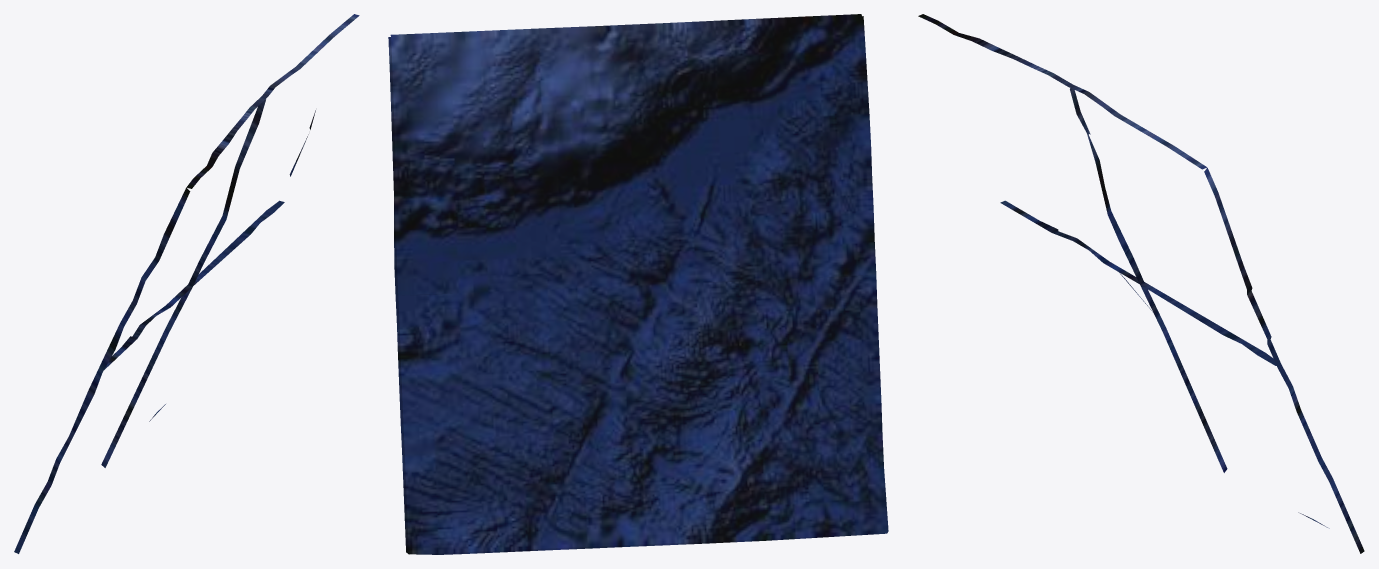
3 renders of one model, left to right at view 1: azimuth 30°, elevation 25°; view 2: azimuth 150°, elevation 25°; view 3: azimuth 270°, elevation 25°, orthographic. The views are drawn at different scales.
Bounding box in the file's own units: 152785 × 147432 × 136568.
1 material, 1 textured.
